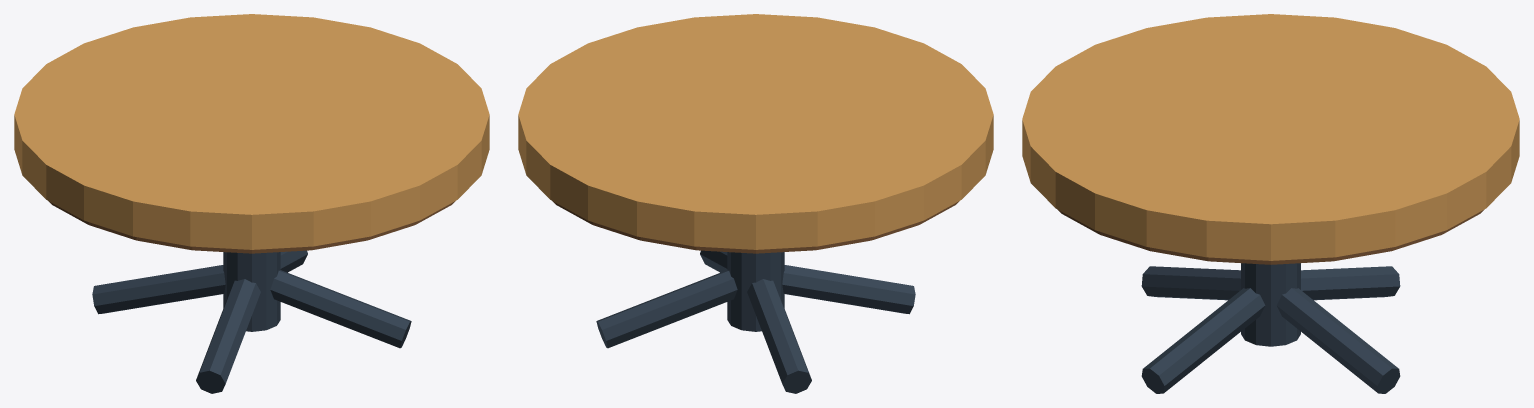
The model's file is table_coffee.glb.
3 views of the same model, side by side, from view 1: azimuth 30°, elevation 25°; view 2: azimuth 150°, elevation 25°; view 3: azimuth 270°, elevation 25° (orthographic). The views are drawn at different scales.
Parts seen in each view (by area): view 1: table_coffee__oak_top, table_coffee__metal, table_coffee__oak_dark; view 2: table_coffee__oak_top, table_coffee__metal, table_coffee__oak_dark; view 3: table_coffee__oak_top, table_coffee__metal, table_coffee__oak_dark.
Part boxes in pixels (x1,y1,x2,y2): table_coffee__oak_top: (14, 14, 489, 249); table_coffee__metal: (92, 250, 411, 393); table_coffee__oak_dark: (48, 201, 455, 253); table_coffee__oak_top: (518, 14, 993, 249); table_coffee__metal: (596, 250, 915, 393); table_coffee__oak_dark: (552, 201, 959, 253); table_coffee__oak_top: (1022, 14, 1519, 260); table_coffee__metal: (1141, 263, 1400, 393); table_coffee__oak_dark: (1057, 209, 1484, 264).
Bounding box in the file's own units: 0.86 × 0.4319 × 0.86.
